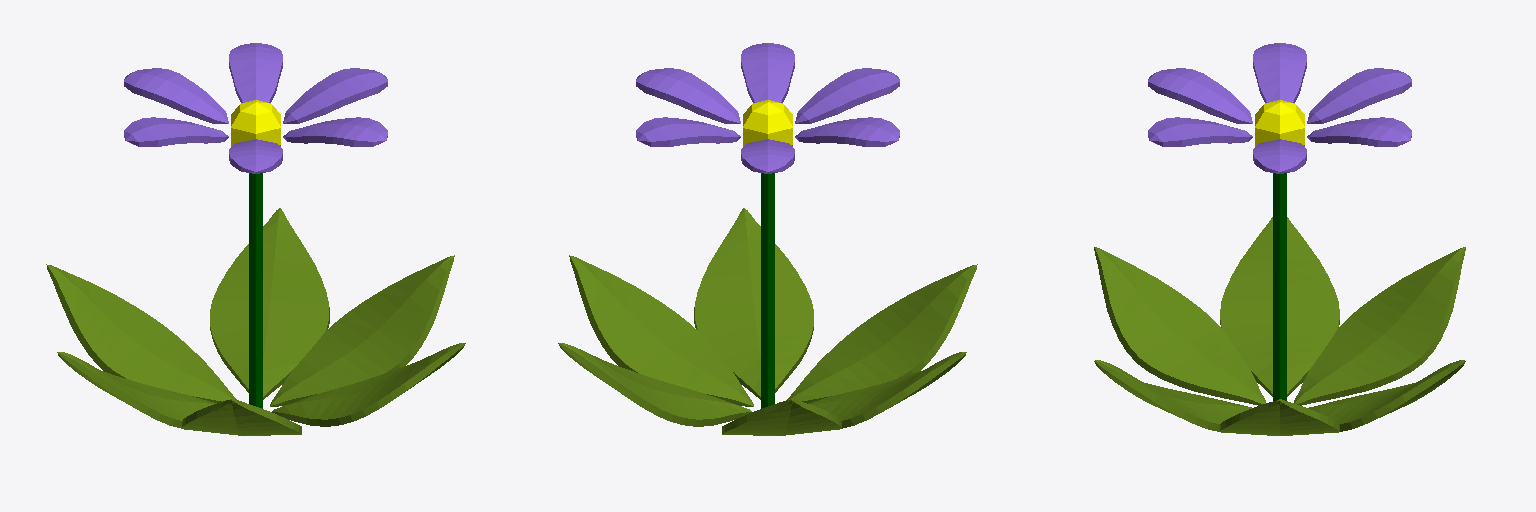
3 views of the same model, side by side, from view 1: azimuth 30°, elevation 25°; view 2: azimuth 150°, elevation 25°; view 3: azimuth 270°, elevation 25° (orthographic).
Visible parts, largest first — view 1: hepatica_0005; view 2: hepatica_0005; view 3: hepatica_0005.
Boxes of the visible parts, x1=… form: hepatica_0005: x1=46, y1=43, x2=465, y2=435; hepatica_0005: x1=558, y1=43, x2=977, y2=435; hepatica_0005: x1=1094, y1=43, x2=1465, y2=435.
Size of the model in its own units: 2.97 by 2.22 by 2.4.
Materials: 1 (1 with a texture image).